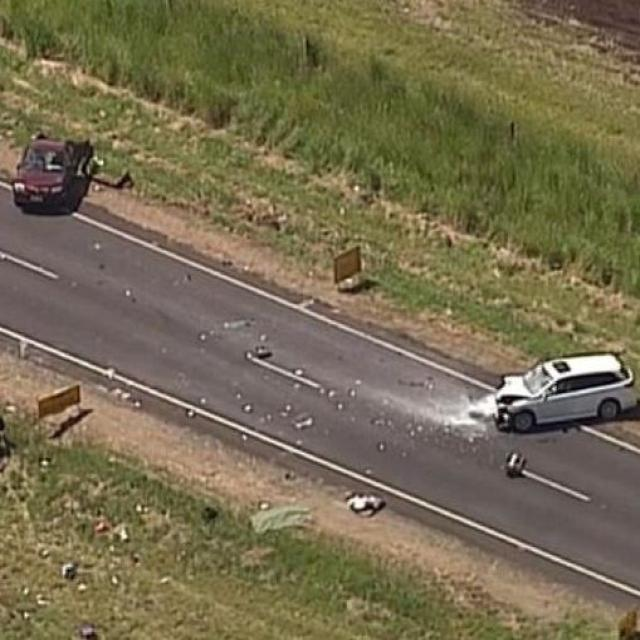traffic_incident: (396, 332, 638, 473), (5, 115, 150, 248)
